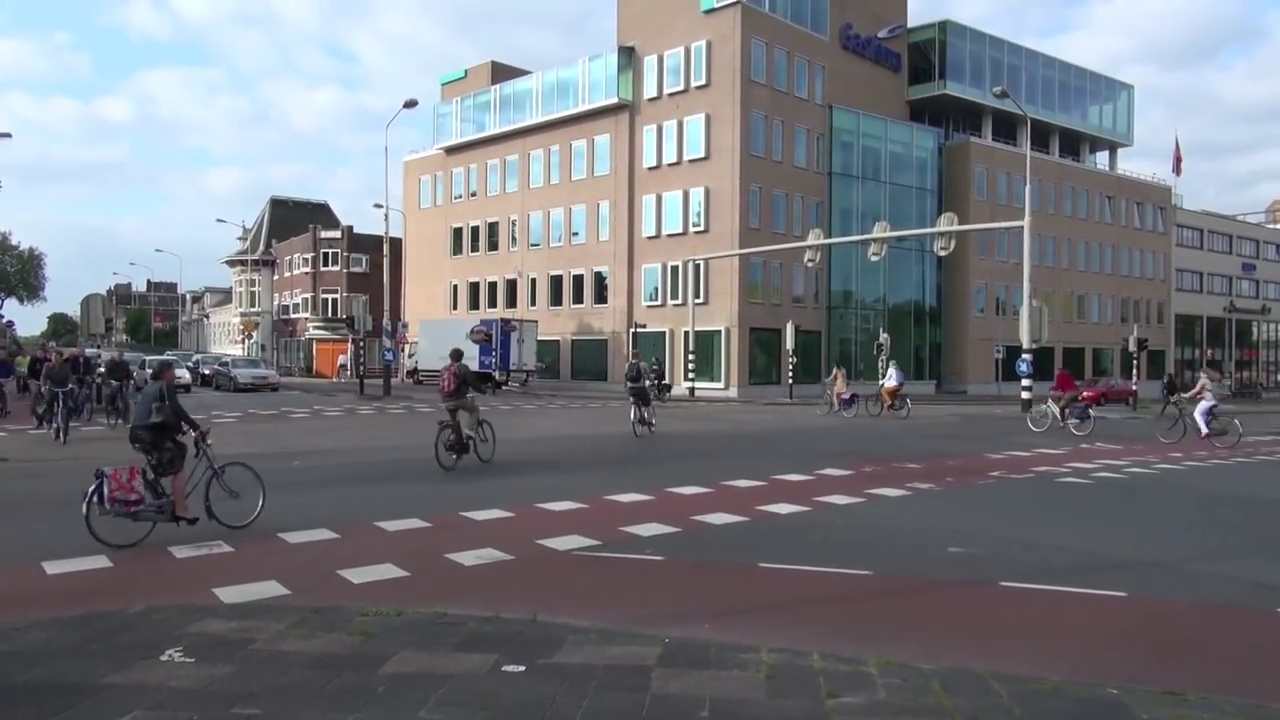cyclist_back: (623, 351, 657, 440)
cyclist_front: (42, 347, 75, 443), (103, 348, 134, 432)
cyclist_side: (72, 361, 273, 543), (425, 345, 500, 472), (1159, 359, 1242, 452), (1024, 361, 1098, 439), (869, 360, 915, 420), (813, 364, 862, 418)
